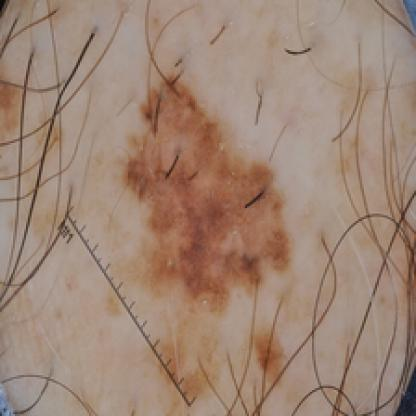malignant: (122, 87, 288, 301)
